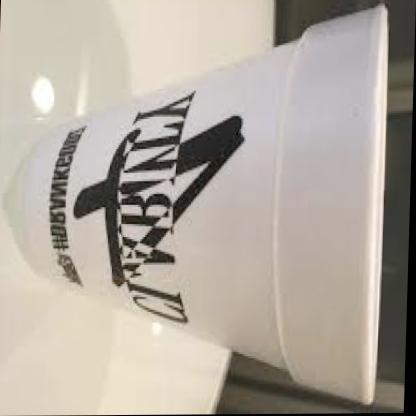Plastic: (0, 0, 402, 408)
